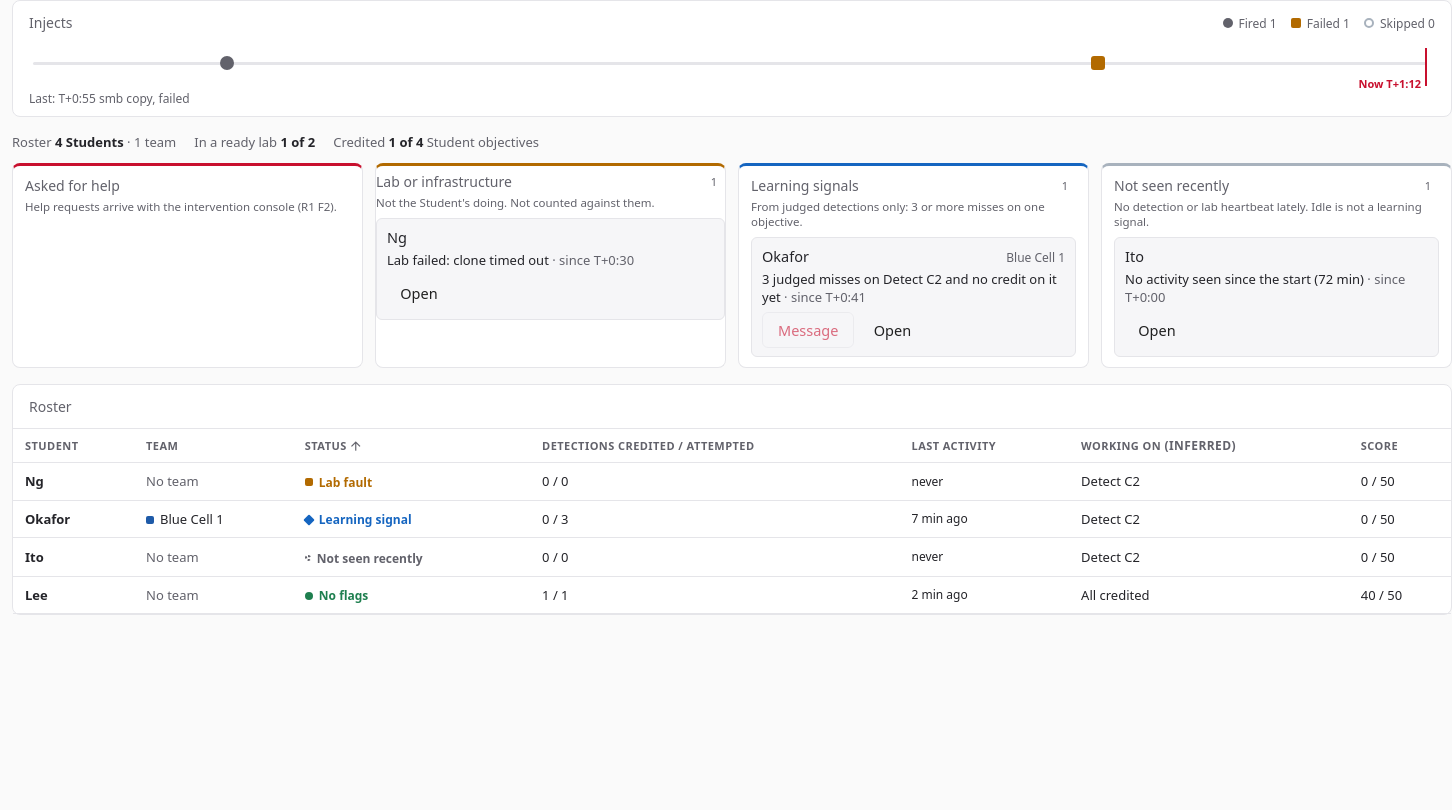
it: LiveClassComponent › draws the run's injects on the timeline, a failed one marked as the exercise's
Click the button named "T+0:55 smb copy, failed" at (1098, 63), box [1091,56,1105,70]
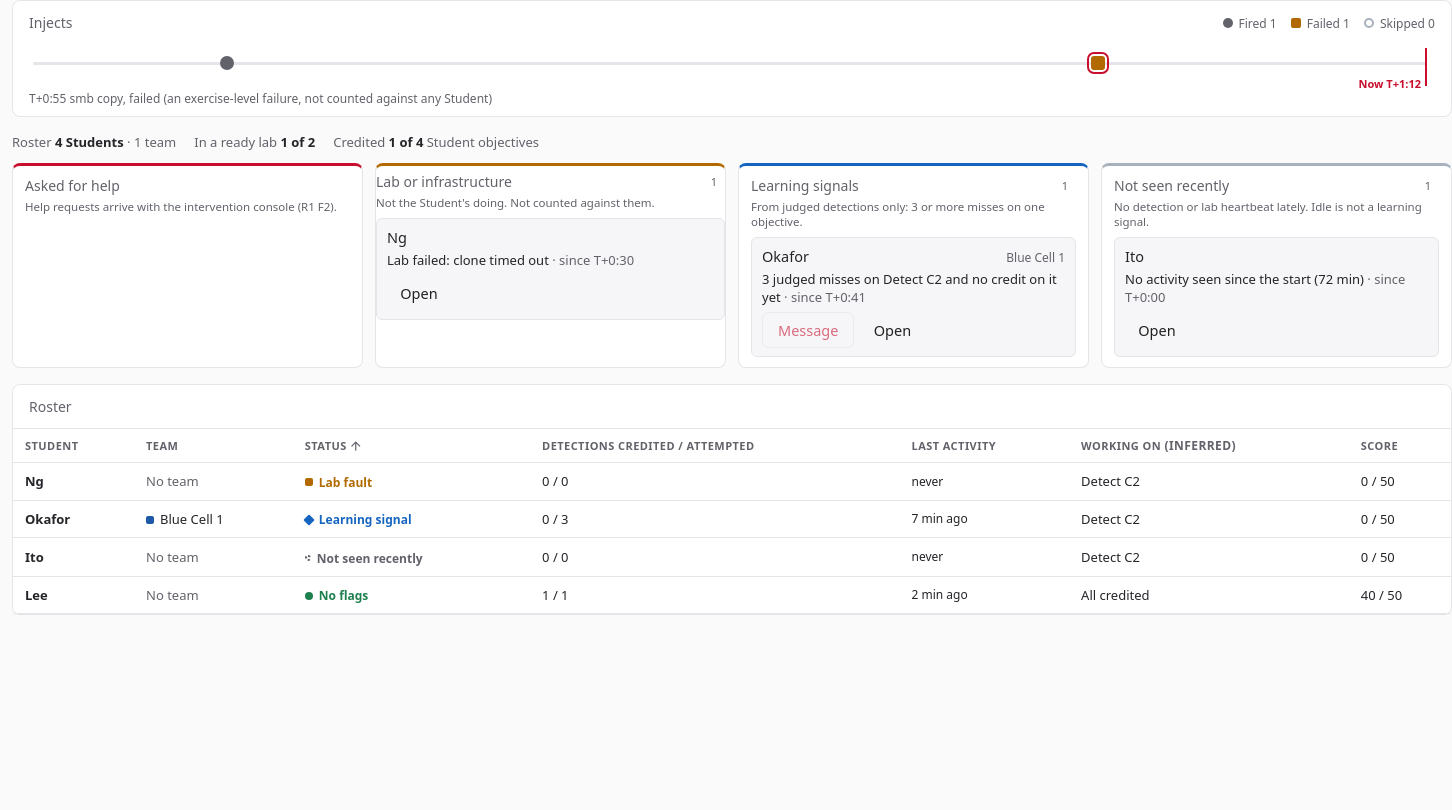
Expected: the text with class "detail" shows "not counted against any Student", [160,90,492,107]
